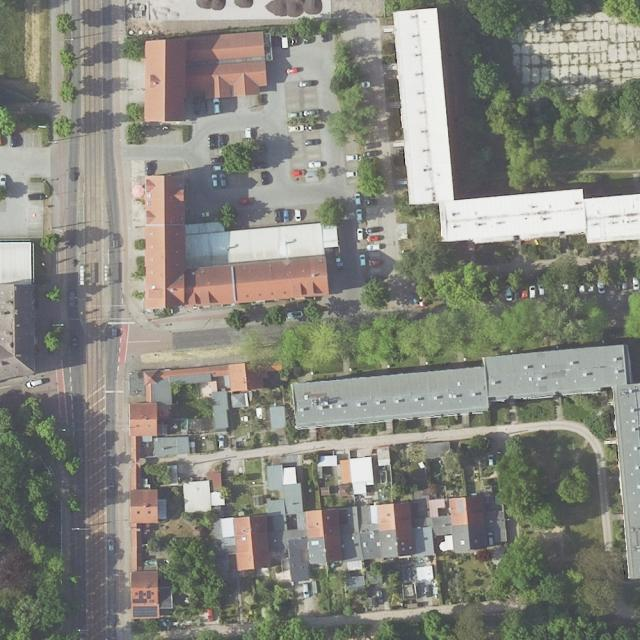PV: (132, 605, 158, 617), (133, 590, 151, 603)
